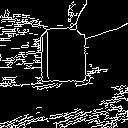cube: (35, 23, 89, 86)
